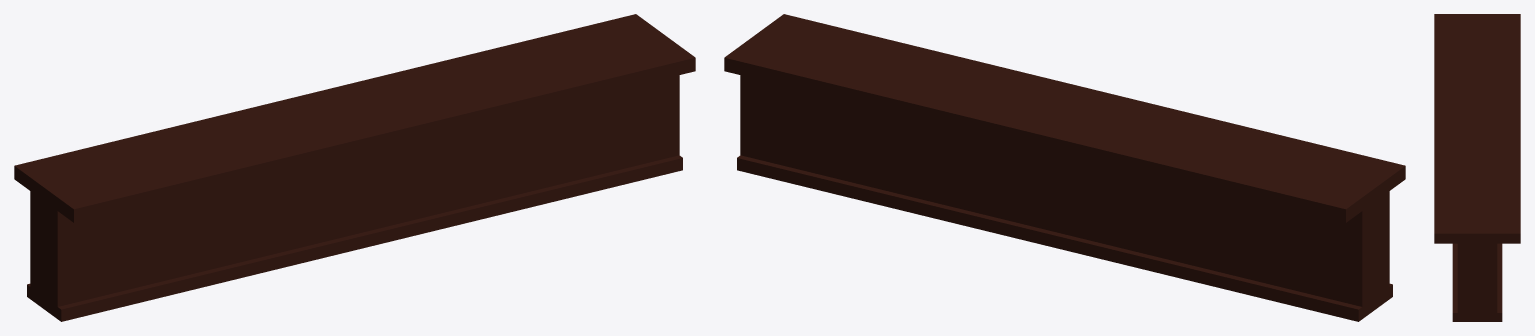
Rendered from Balcao.fbx.
3 renders of one model, left to right at view 1: azimuth 30°, elevation 25°; view 2: azimuth 150°, elevation 25°; view 3: azimuth 270°, elevation 25°, orthographic. The views are drawn at different scales.
Parts seen in each view (by area): view 1: Balcao; view 2: Balcao; view 3: Balcao.
Boxes of the visible parts, x1,y1,x2,y2 form: Balcao: (14,14,695,321); Balcao: (724,14,1405,321); Balcao: (1434,14,1520,321).
Size of the model in its own units: 525 by 98.3 by 87.24.
